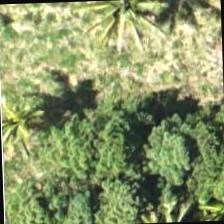Kelapa_Sawit: (0, 80, 69, 173)
